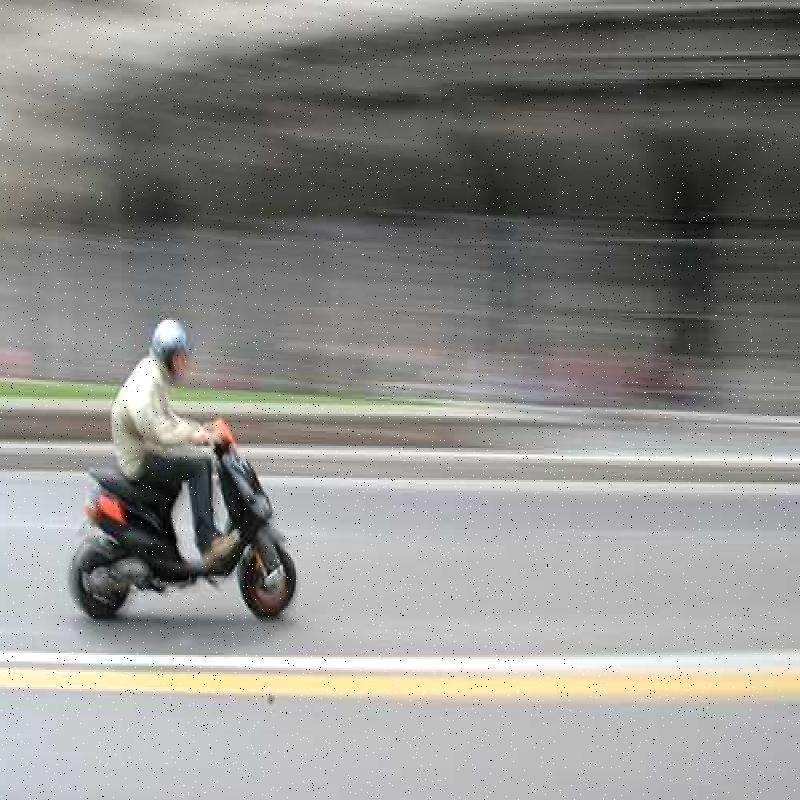bike: (68, 399, 289, 668)
